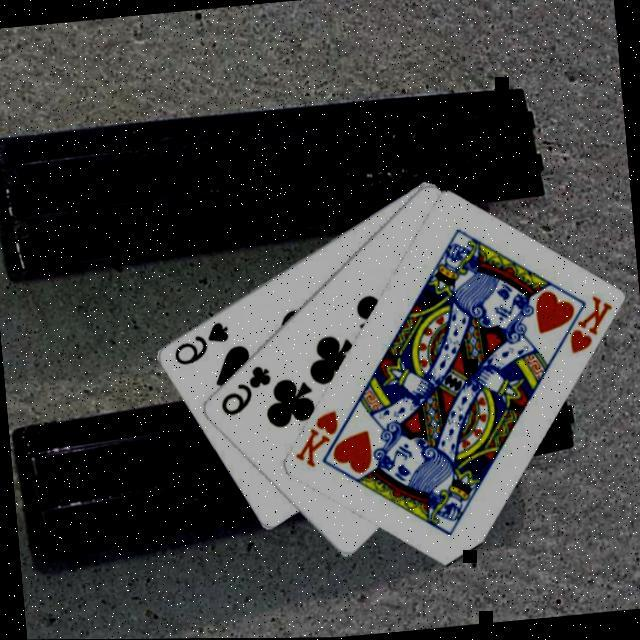9C: (215, 362, 277, 421)
9S: (170, 318, 236, 369)
KH: (564, 292, 619, 359), (289, 408, 346, 472)
